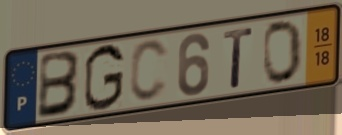6: (176, 31, 212, 99)
B: (35, 48, 84, 121)
C: (127, 37, 171, 105)
G: (82, 42, 126, 114)
O: (262, 17, 304, 86)
T: (222, 25, 255, 90)
